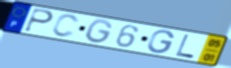6: (115, 24, 141, 49)
C: (50, 13, 81, 39)
G: (84, 19, 115, 45), (147, 30, 176, 55)
L: (174, 33, 196, 60)
P: (22, 7, 56, 34)
